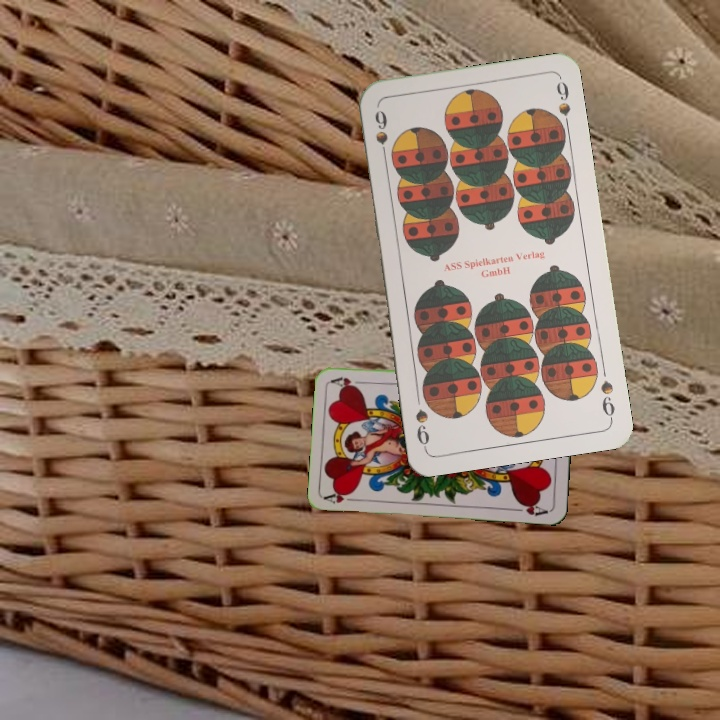HA: (322, 487, 362, 506)
S9: (370, 106, 391, 164), (596, 376, 617, 423)
